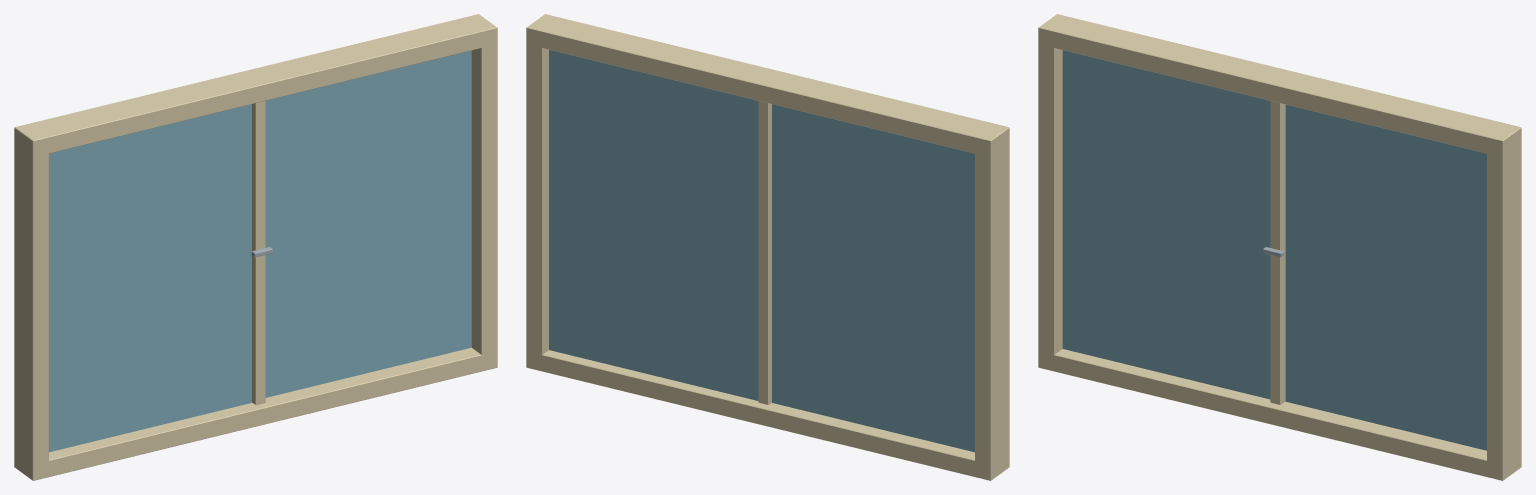
File: b21_window_sliding_2m.glb
The picture shows the model from 3 angles, left to right: view 1: azimuth 30°, elevation 25°; view 2: azimuth 150°, elevation 25°; view 3: azimuth 330°, elevation 25°; orthographic projection.
Parts seen in each view (by area): view 1: b21_window_sliding_2m; view 2: b21_window_sliding_2m; view 3: b21_window_sliding_2m.
Part boxes in pixels (bbox=[...]): b21_window_sliding_2m: bbox=[14, 14, 497, 480]; b21_window_sliding_2m: bbox=[526, 14, 1009, 480]; b21_window_sliding_2m: bbox=[1038, 14, 1521, 480].
Size of the model in its own units: 2 by 1.4 by 0.14.
